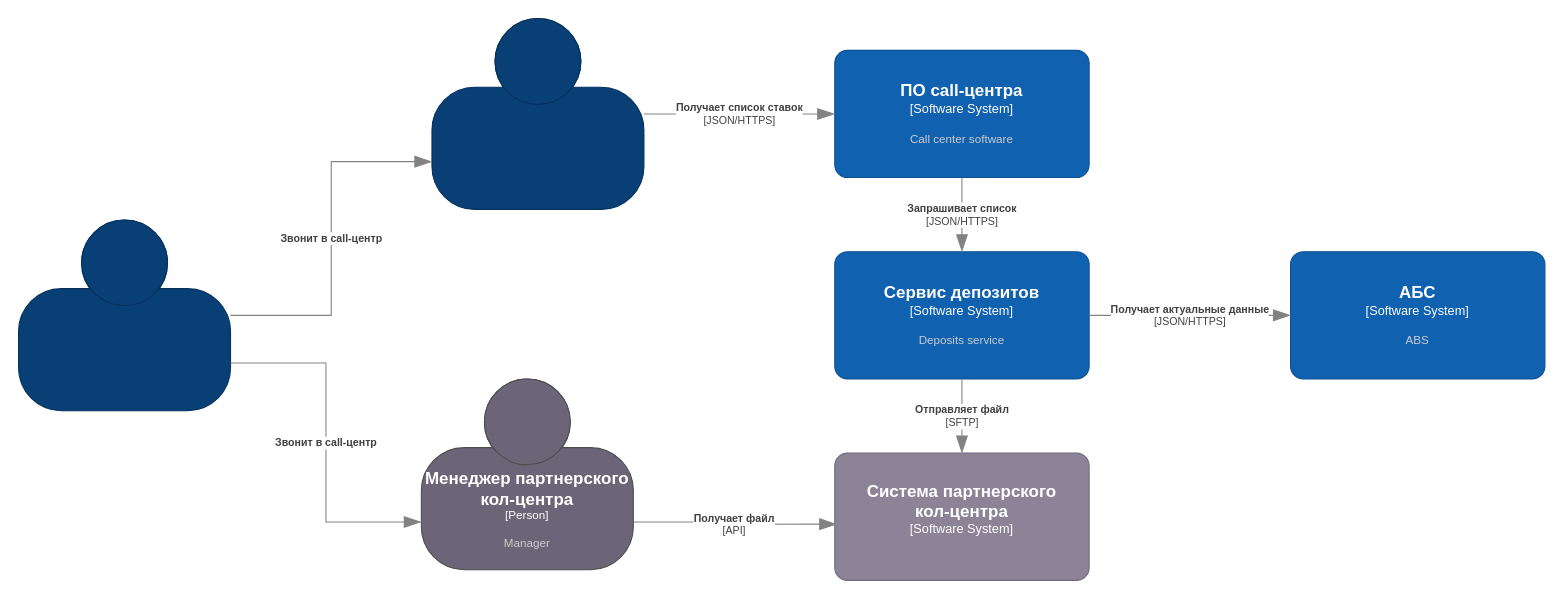
This 1563x599 diagram has some shape labels left out. The shapes that lost their labels are listed below. From the top down, each one's box as (x1, y1, x2, y2) in pixels, then its label:
(431, 17, 644, 209): Менеджер call-центра [Person] Manager
(17, 219, 231, 411): Клиент [Person] Client
